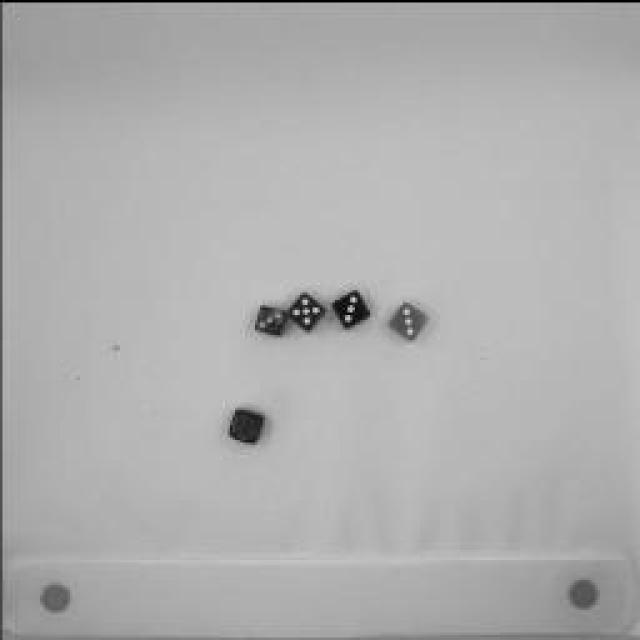dice_3: (382, 300, 428, 340), (331, 288, 369, 330), (256, 302, 286, 332)
dice_5: (289, 291, 321, 329)
dice_6: (228, 405, 260, 443)
